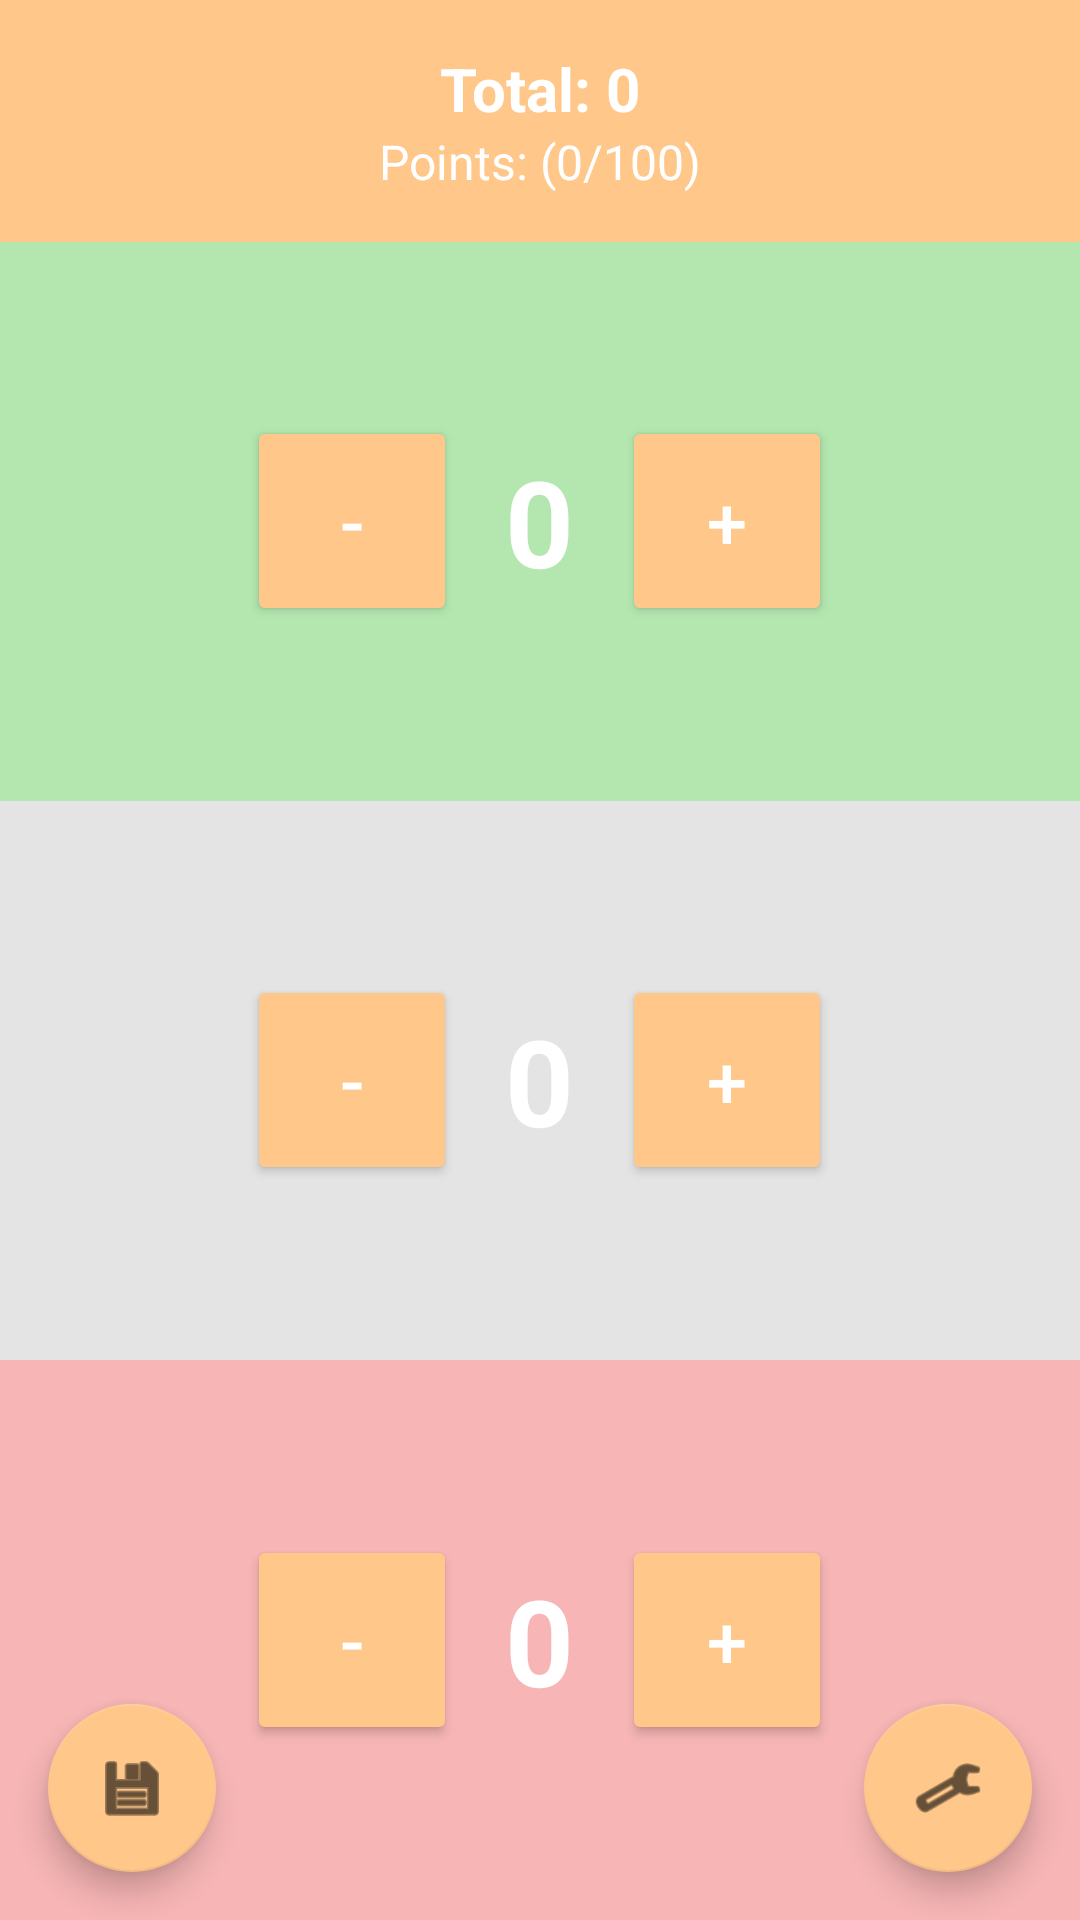

Screen size 1080 x 1920. Icon name, then its center in pixels as (x=x, y=y):
manage: (x=948, y=1788)
save: (x=132, y=1788)
